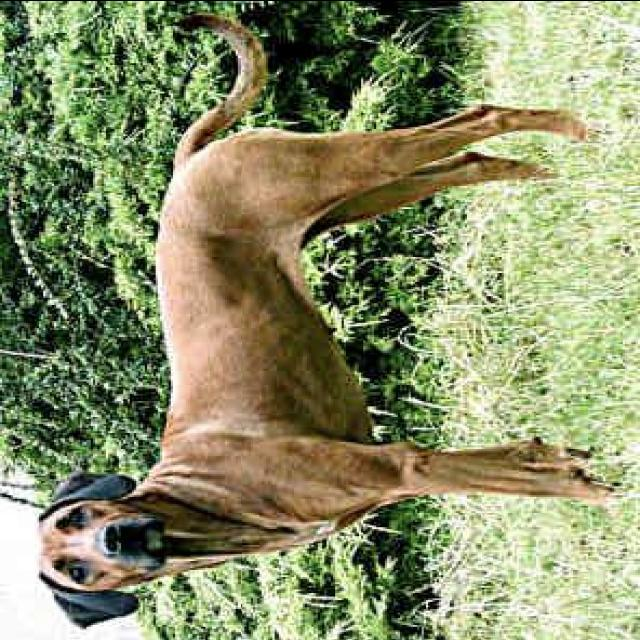rhodesian_ridgeback: (28, 12, 631, 632)
